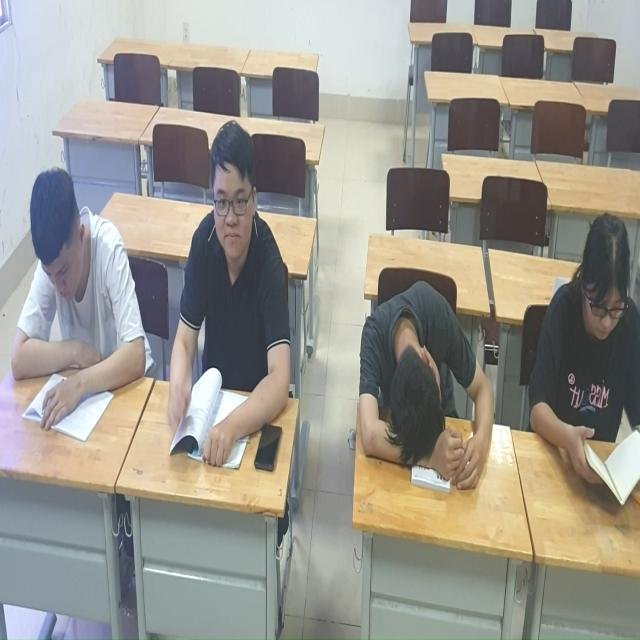read: (161, 115, 302, 481), (7, 157, 144, 441), (514, 204, 640, 502)
sleep: (343, 282, 500, 488)
